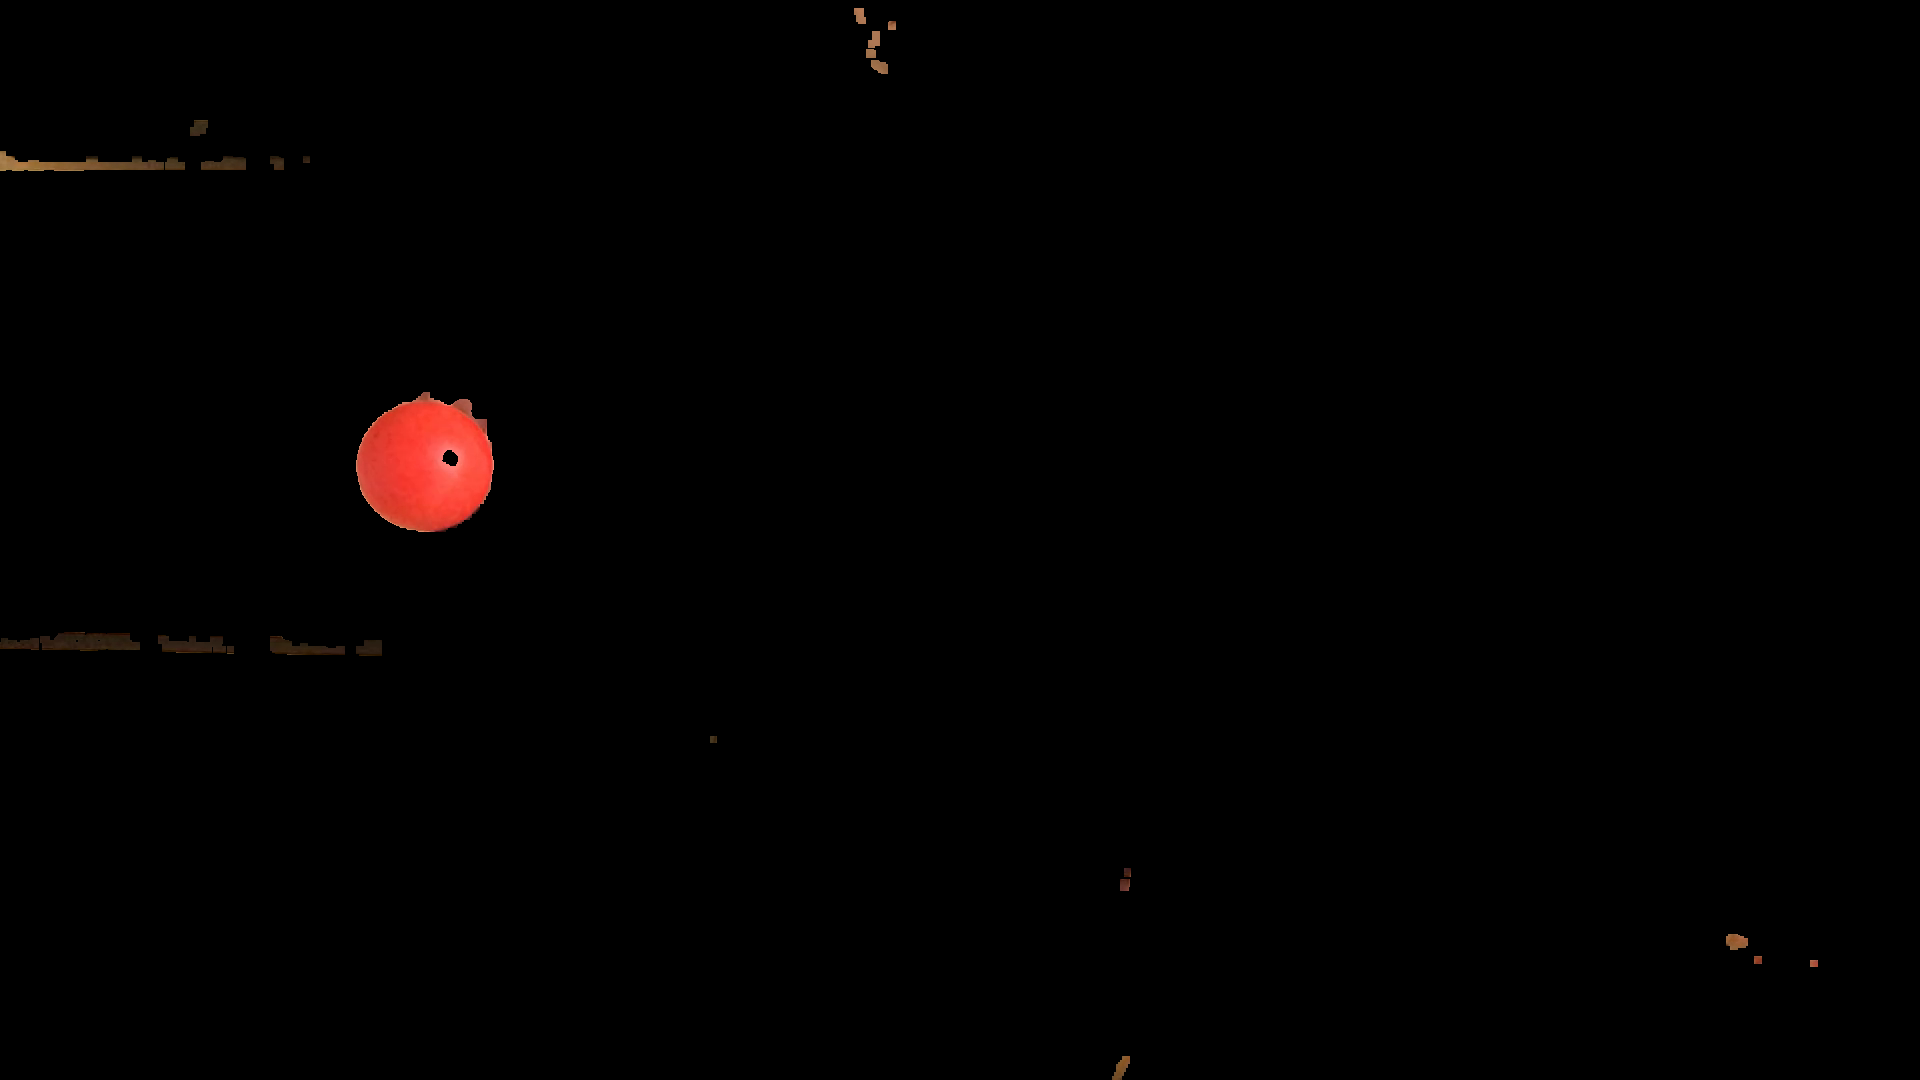Ball: (360, 397, 491, 531)
